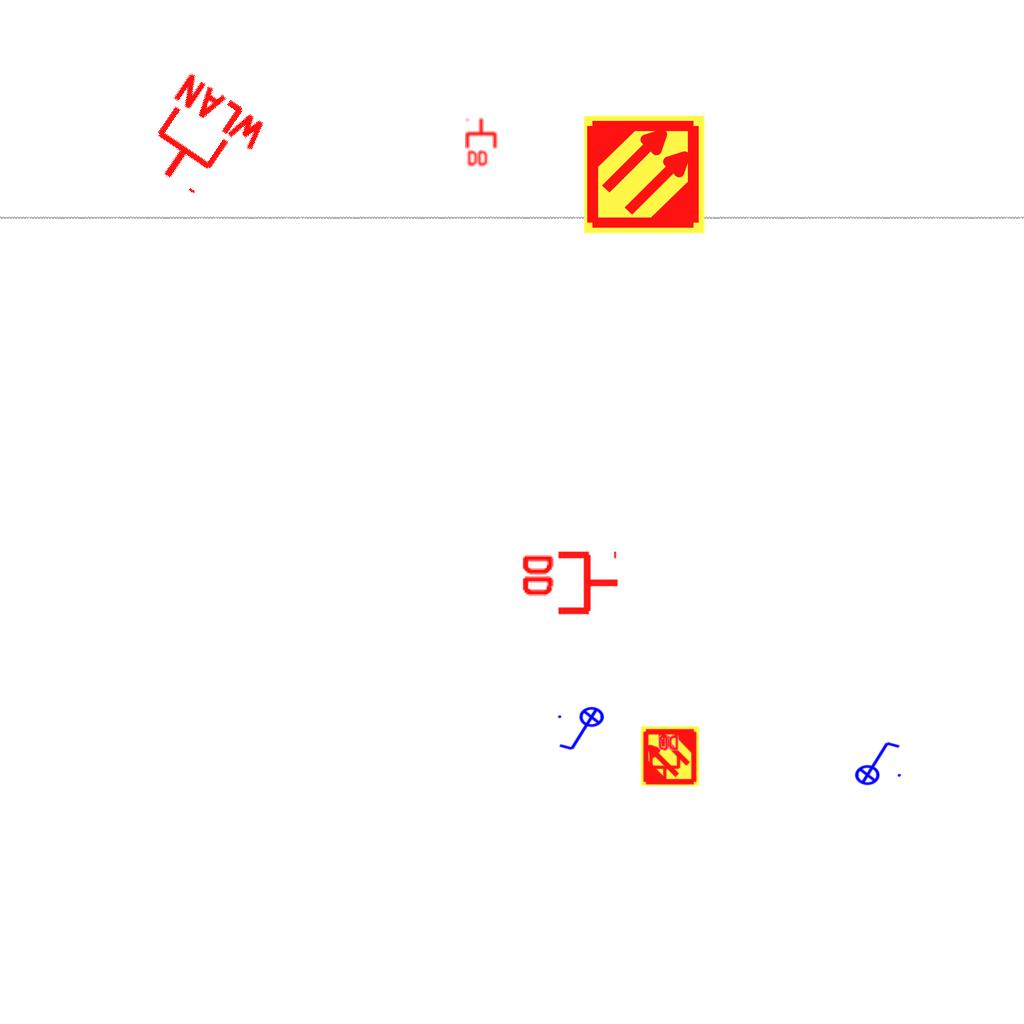ASR_Ansaugrauchmelder: (582, 112, 707, 237), (639, 725, 701, 787)
Ausschalter_beleuchtet: (848, 738, 904, 786), (555, 706, 611, 754)
Datenanschluss_zweifach: (518, 550, 621, 619), (465, 117, 499, 168), (647, 733, 681, 784)
WLAN: (129, 68, 274, 214)
